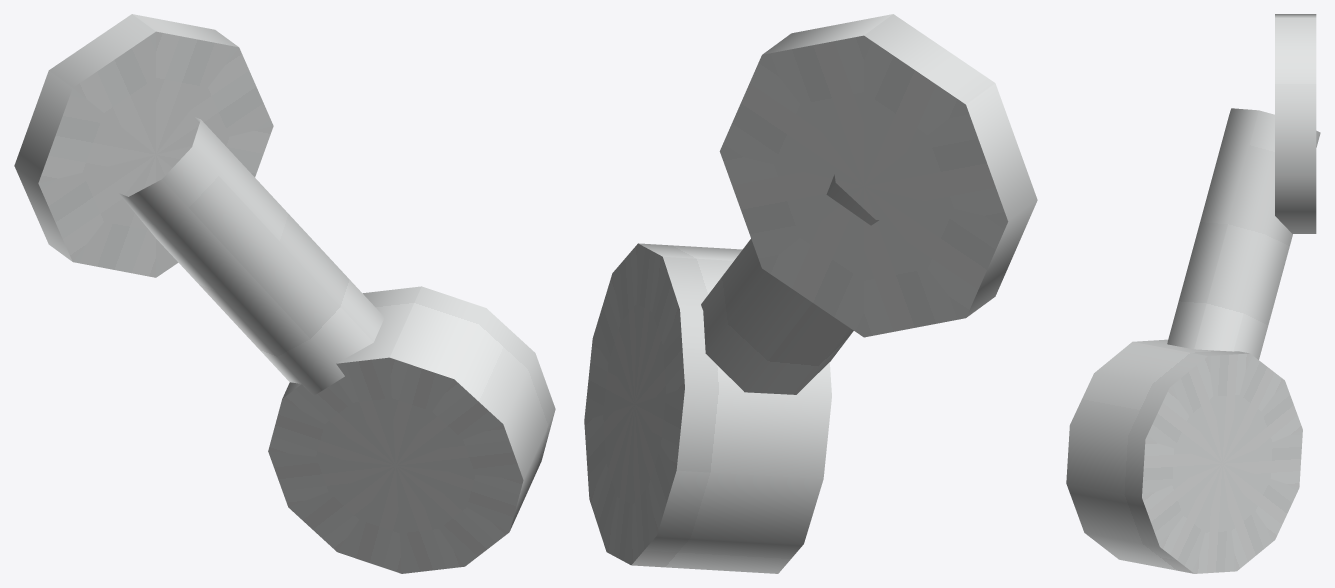
Rendered from nycsignalarm_stub_123.obj.
The picture shows the model from 3 angles, left to right: view 1: azimuth 30°, elevation 25°; view 2: azimuth 150°, elevation 25°; view 3: azimuth 270°, elevation 25°; orthographic projection. The views are drawn at different scales.
Parts seen in each view (by area): view 1: nycsignalarm_stub_123; view 2: nycsignalarm_stub_123; view 3: nycsignalarm_stub_123.
Part boxes in pixels (x1=…): nycsignalarm_stub_123: x1=14, y1=14, x2=555, y2=573; nycsignalarm_stub_123: x1=584, y1=14, x2=1037, y2=573; nycsignalarm_stub_123: x1=1066, y1=14, x2=1320, y2=573.
Size of the model in its own units: 0.6545 by 0.7646 by 0.3803.
